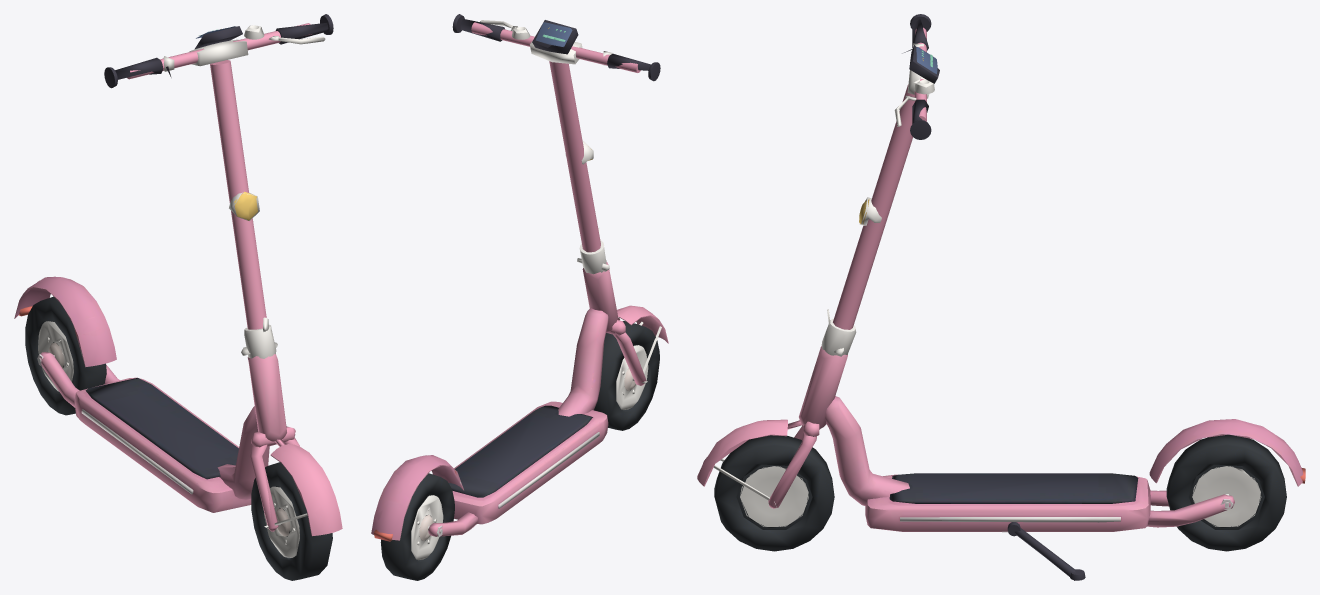
Rendered from e-scooter.glb.
The picture shows the model from 3 angles, left to right: view 1: azimuth 30°, elevation 25°; view 2: azimuth 150°, elevation 25°; view 3: azimuth 270°, elevation 25°; orthographic projection. The views are drawn at different scales.
Parts seen in each view (by area): view 1: e-scooter_kickstand, e-scooter_body; view 2: e-scooter_kickstand, e-scooter_body; view 3: e-scooter_kickstand, e-scooter_body.
Boxes of the visible parts, box(x1,y1,x2,y2) form: e-scooter_kickstand: box(25, 14, 342, 580); e-scooter_body: box(14, 276, 286, 512); e-scooter_kickstand: box(380, 14, 668, 580); e-scooter_body: box(371, 262, 618, 541); e-scooter_kickstand: box(697, 14, 1286, 580); e-scooter_body: box(799, 346, 1305, 532).
Bounding box in the file's own units: 0.52 × 1.11 × 1.24.
2 materials, 2 textured.
